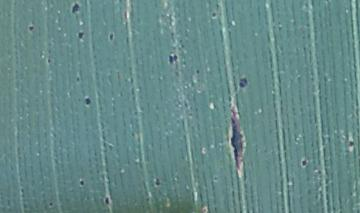tarspot: (222, 98, 249, 180), (67, 1, 84, 15), (234, 75, 251, 89), (166, 50, 180, 65), (152, 175, 163, 189), (346, 137, 357, 151), (75, 28, 86, 41), (103, 193, 112, 208), (298, 156, 309, 168), (26, 21, 36, 33), (105, 30, 115, 42), (83, 93, 91, 107), (76, 177, 87, 187), (44, 56, 54, 66), (210, 9, 218, 21), (74, 73, 82, 85), (193, 67, 203, 76), (45, 201, 57, 208)
